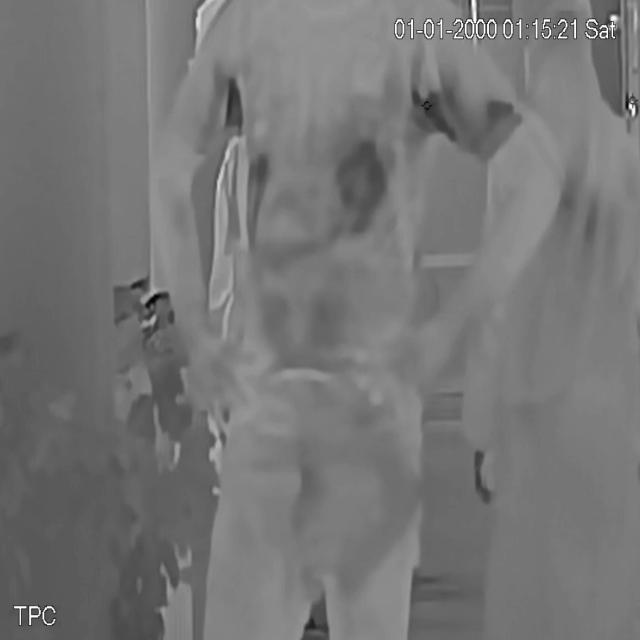Weapon: (344, 442, 433, 628)
